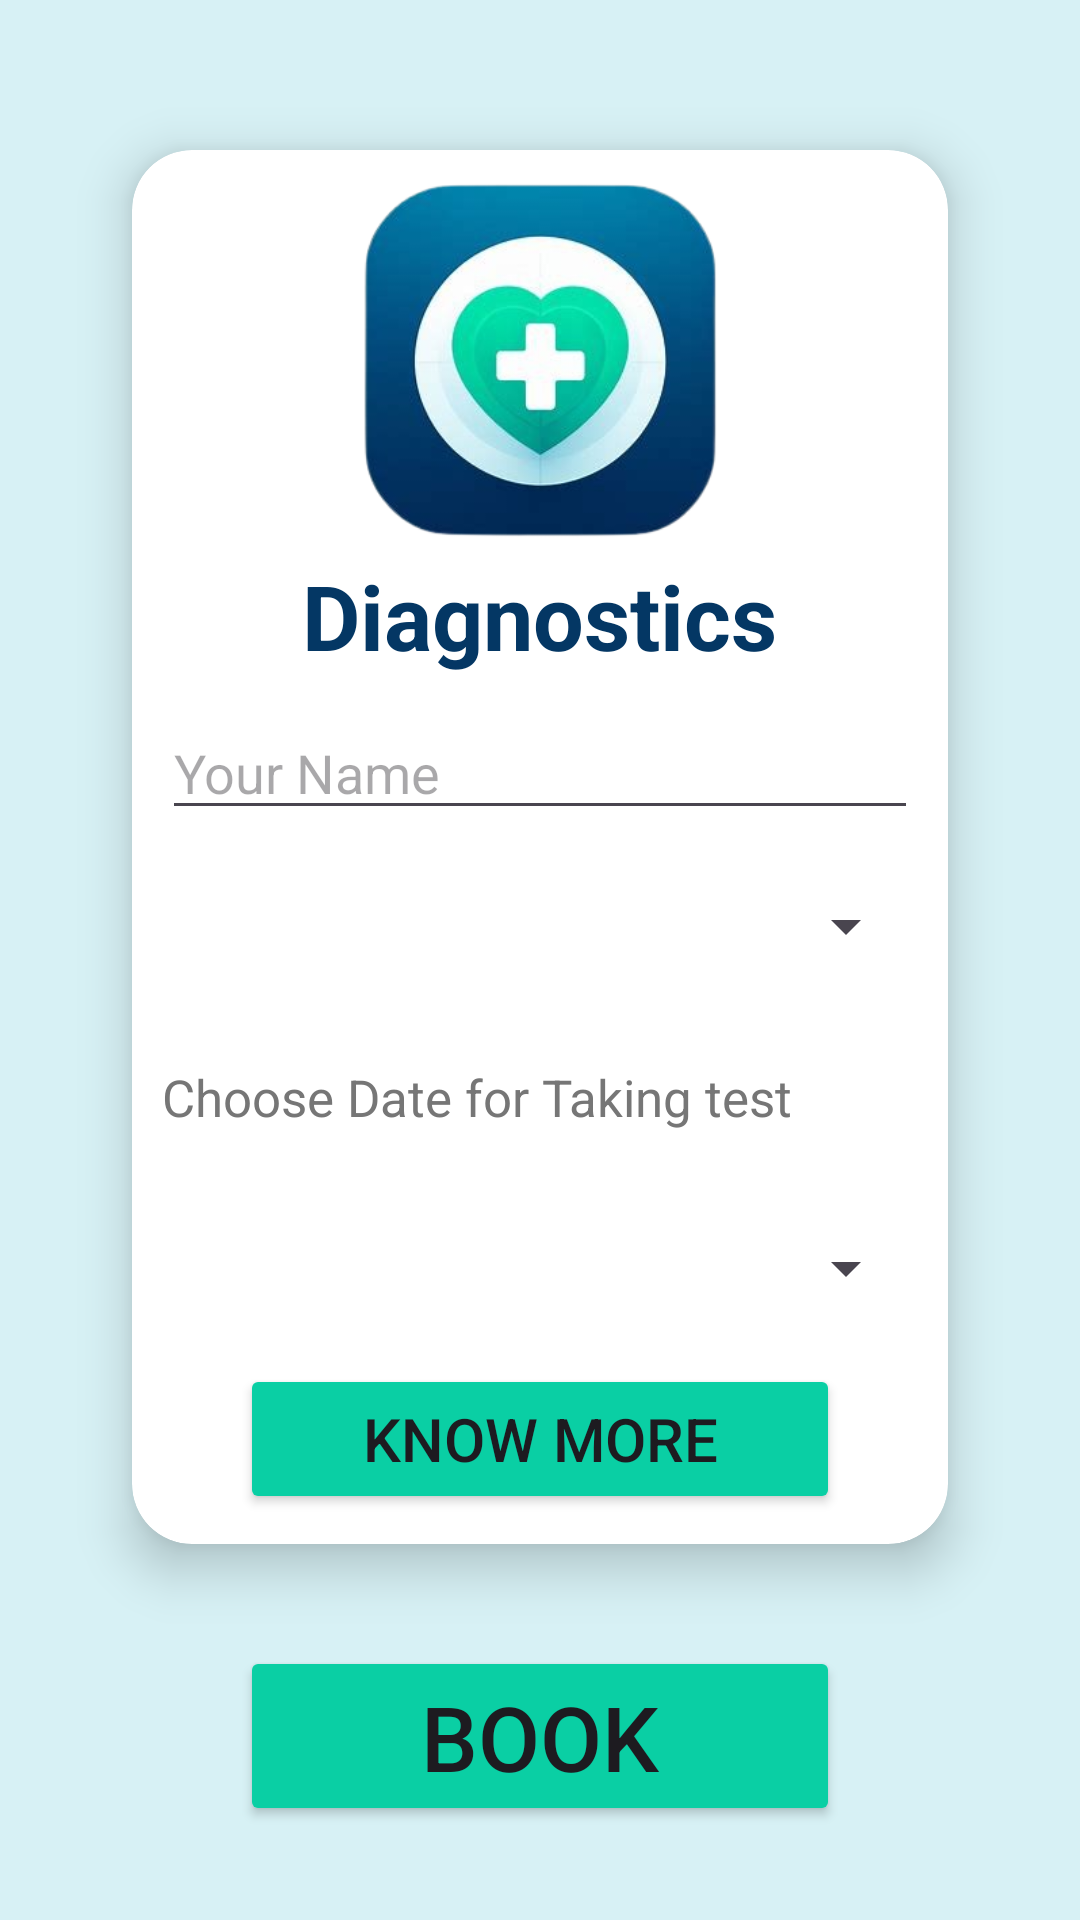

Icon click points for this 1080 × 1920 phone screenshot, format point (x, y):
app: point (540, 360)
